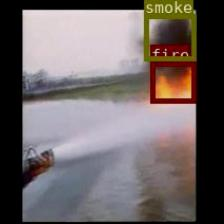fire: (150, 61, 195, 102)
smoke: (143, 13, 195, 60)
